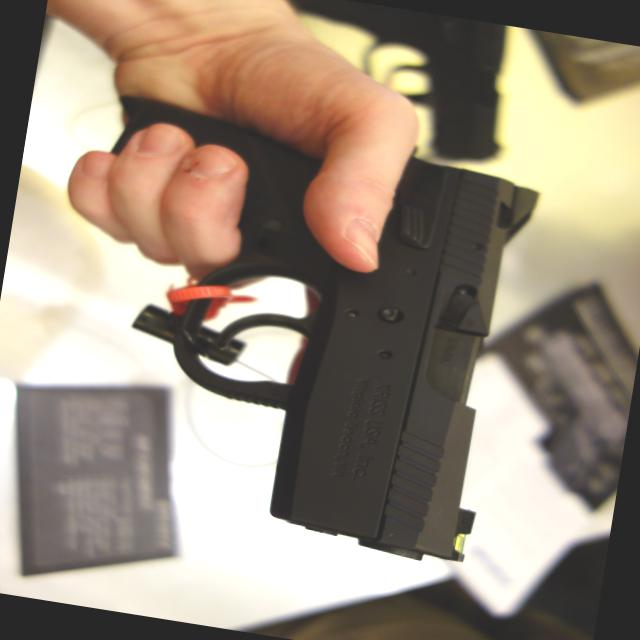handgun: (56, 89, 554, 570)
